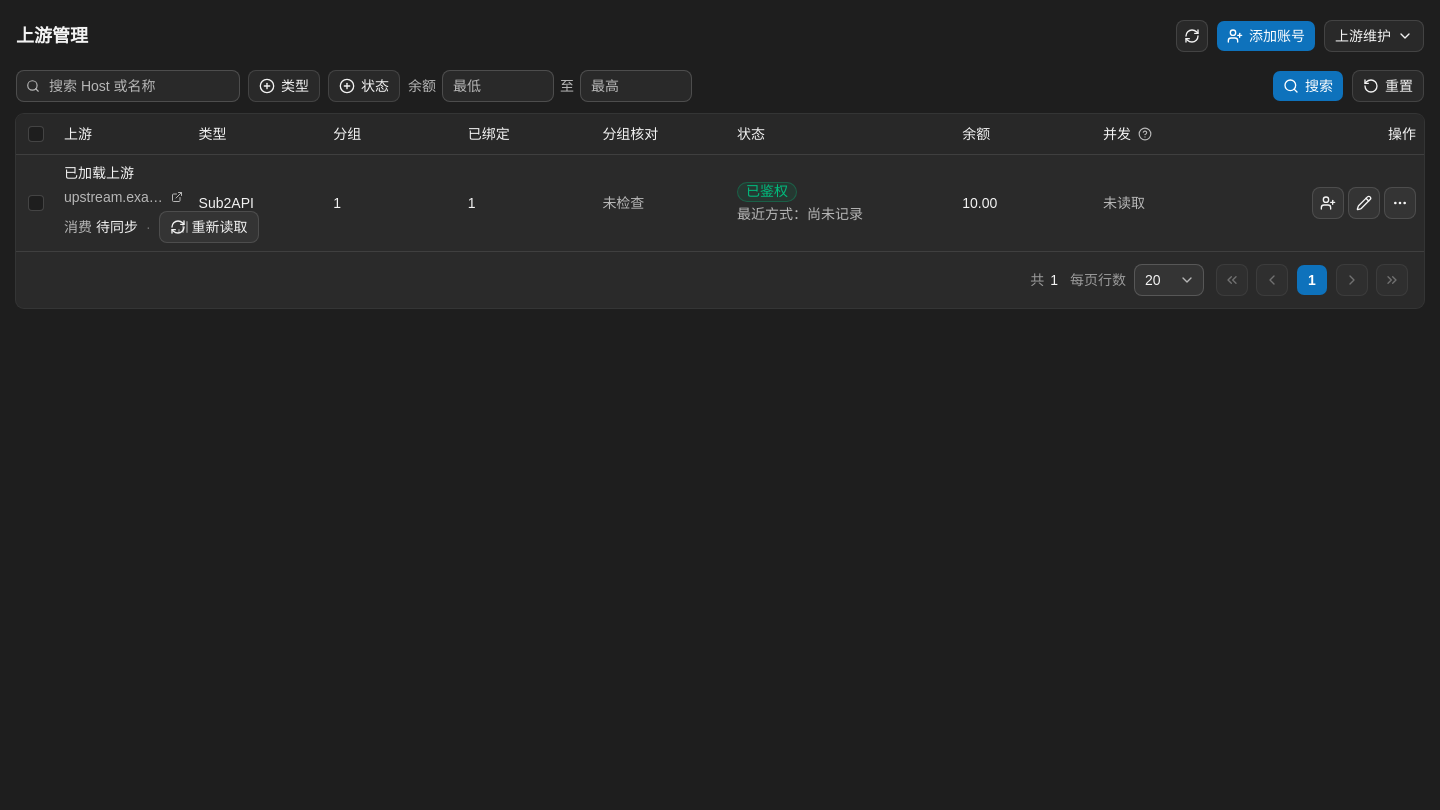
Test: 上游列表刷新失败时保留已加载行和选择，刷新成功后更新列表
Click the checkbox named "选择上游 已加载上游" at (36, 202), box [28,194,44,210]
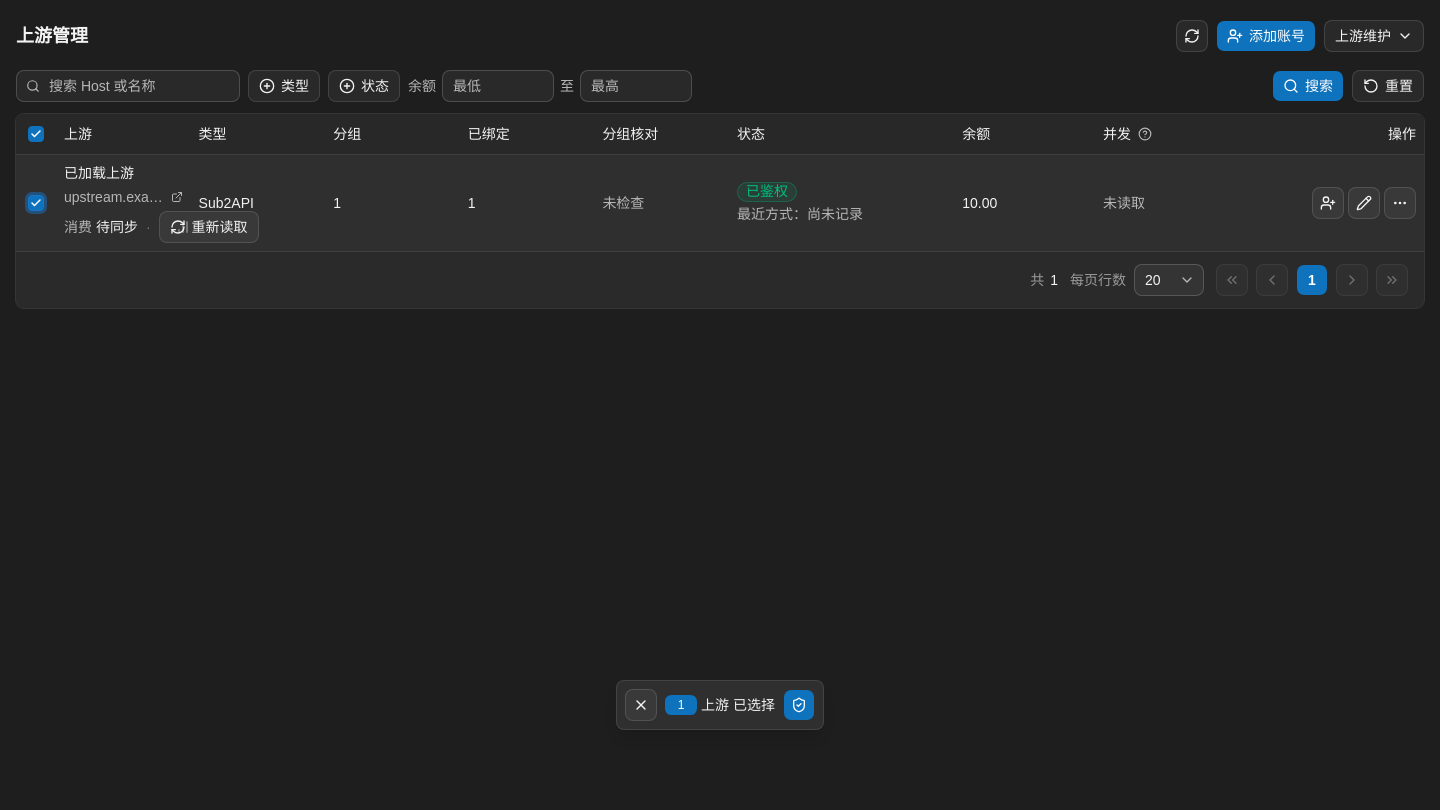
Click the button named "刷新上游列表" at (1192, 36), box [1176,20,1208,52]
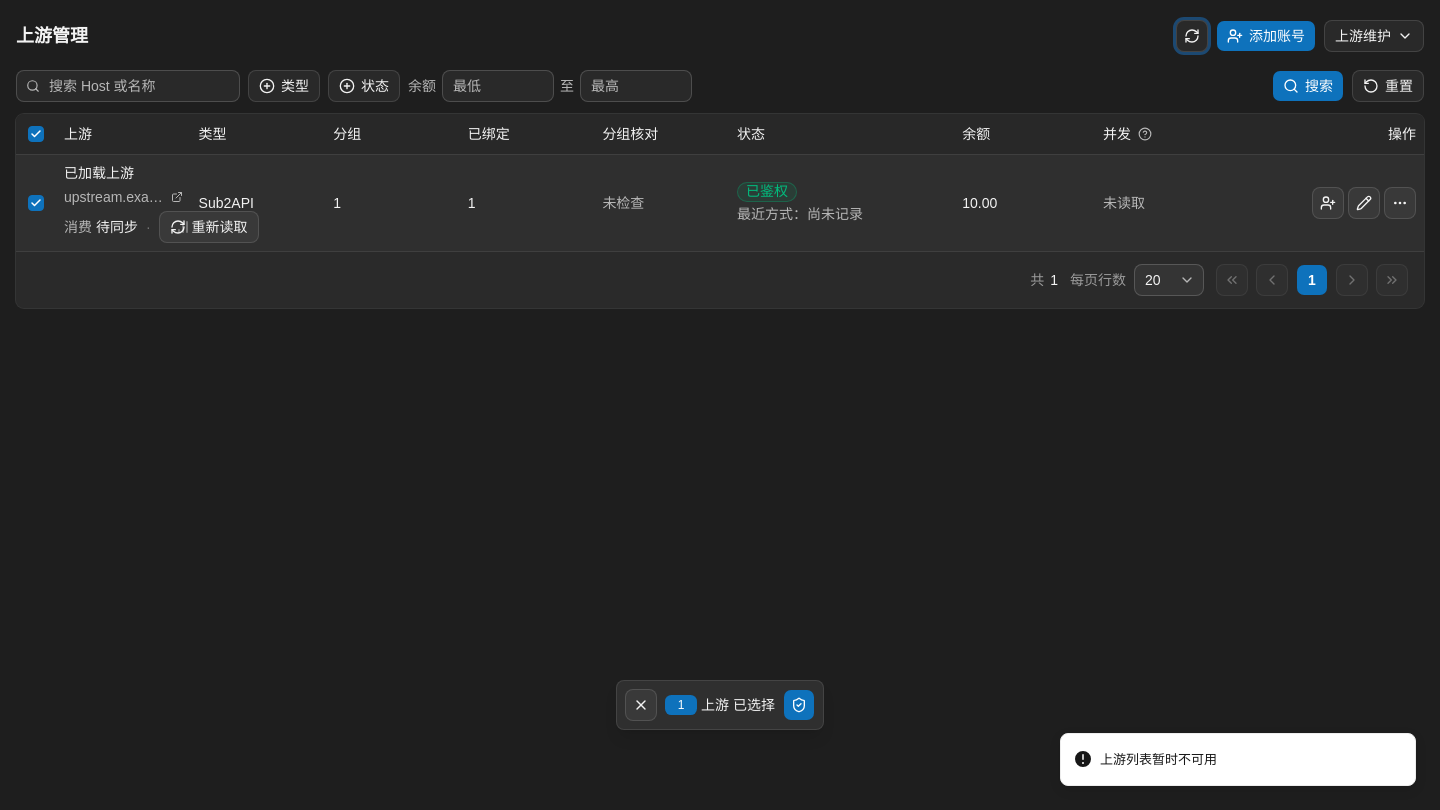
expect the text "已加载上游" is shown: met, box [64,164,134,180]
expect the checkbox named "选择上游 已加载上游" is checked: met, box [28,194,44,210]
expect the text "上游列表暂时不可用" is shown: met, box [1100,750,1217,769]
Click the button named "刷新上游列表" at (1192, 36), box [1176,20,1208,52]
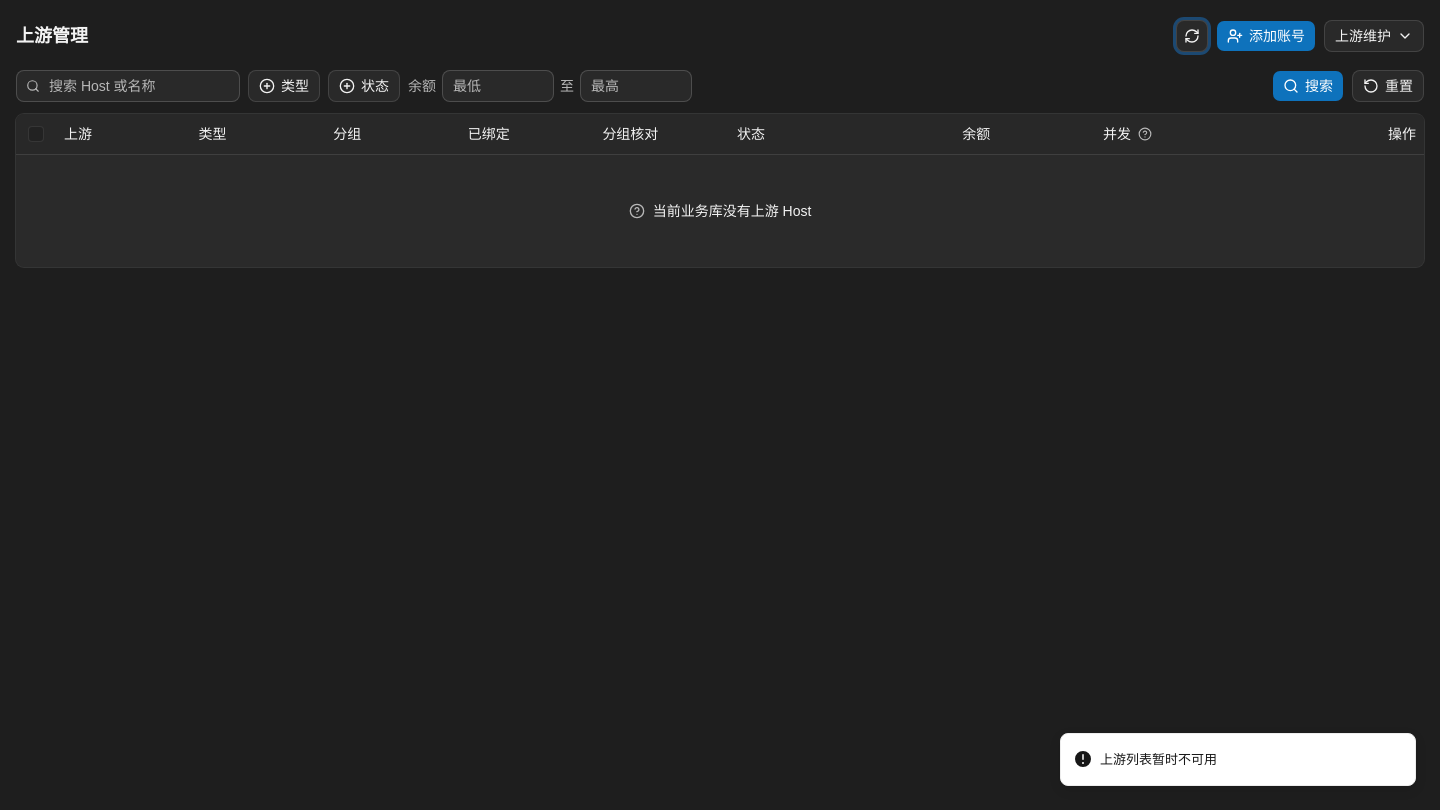
expect the text "当前业务库没有上游 Host" is shown: met, box [653,200,811,220]
